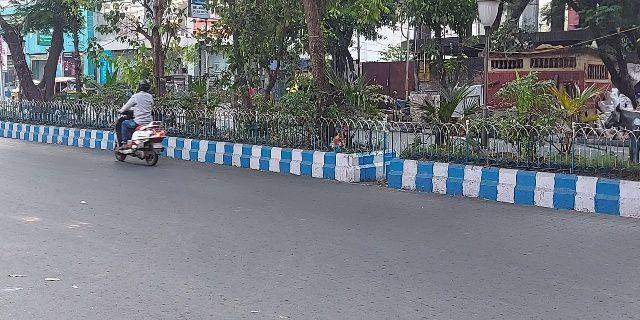Motorbike: (110, 78, 165, 170)
